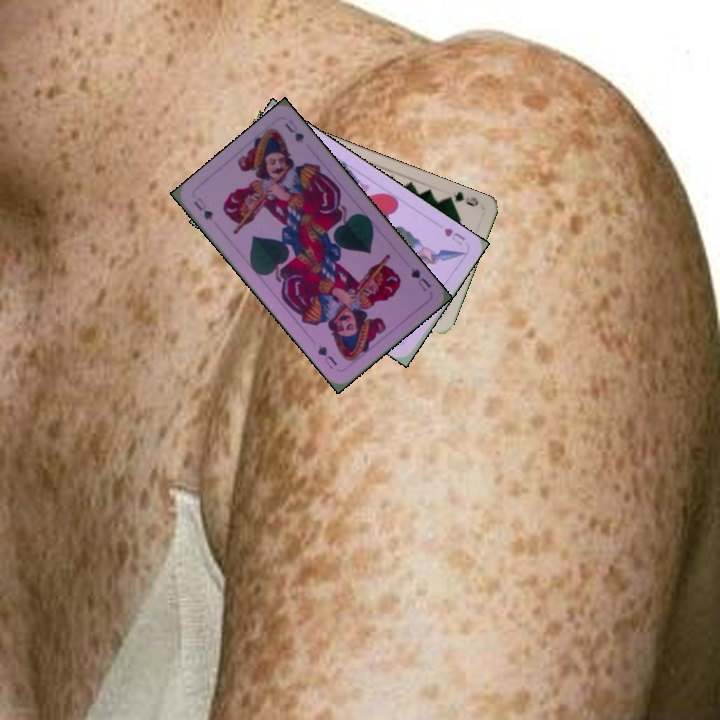G9: (441, 187, 481, 209)
GU: (406, 264, 434, 294), (190, 193, 216, 223)
HU: (440, 224, 468, 248)
